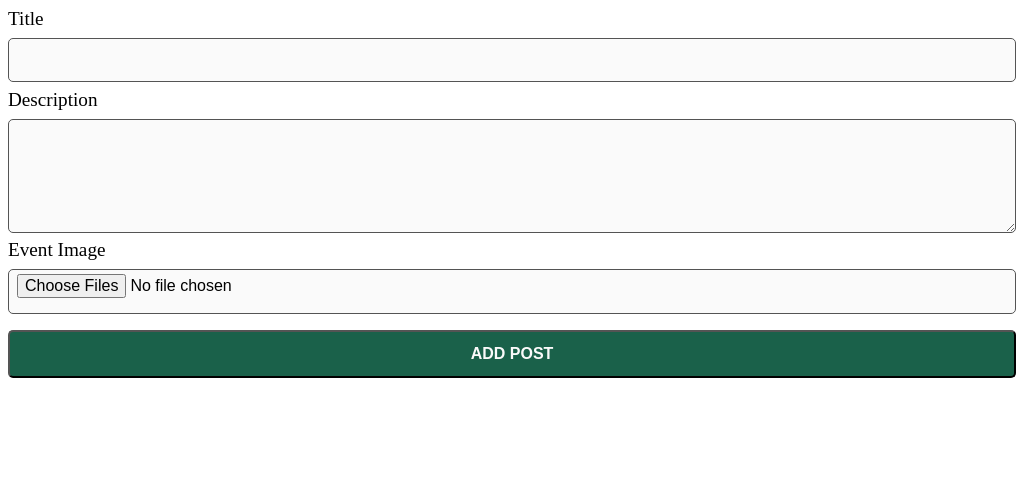
it: EditCreatePost component › handles form submission with invalid data
What coordinates should you click on to do the following:
click the button "Add post"
I would click on:
 (512, 354)
Its box is [8,330,1016,378].
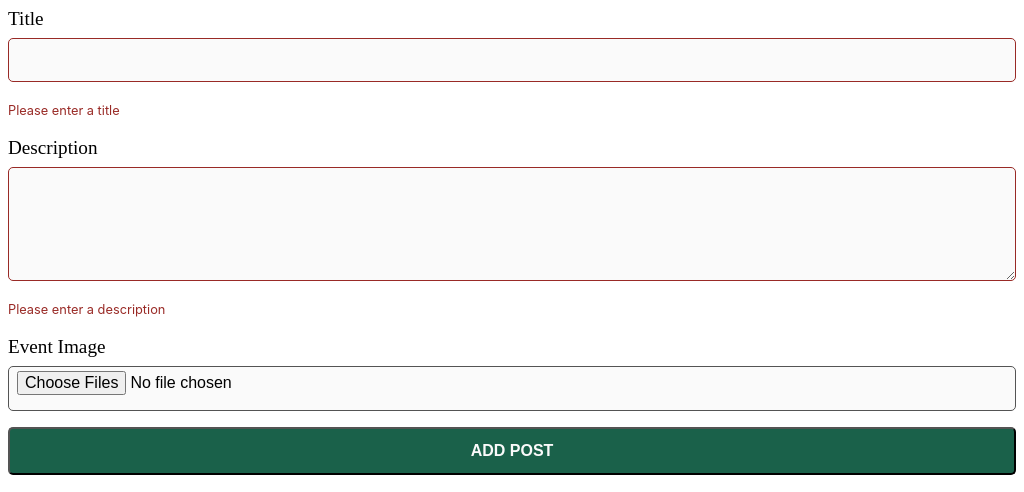
Result: the text "Please enter a title" is shown at [8,103,120,118]
Result: the text "Please enter a description" is shown at [8,302,165,317]
